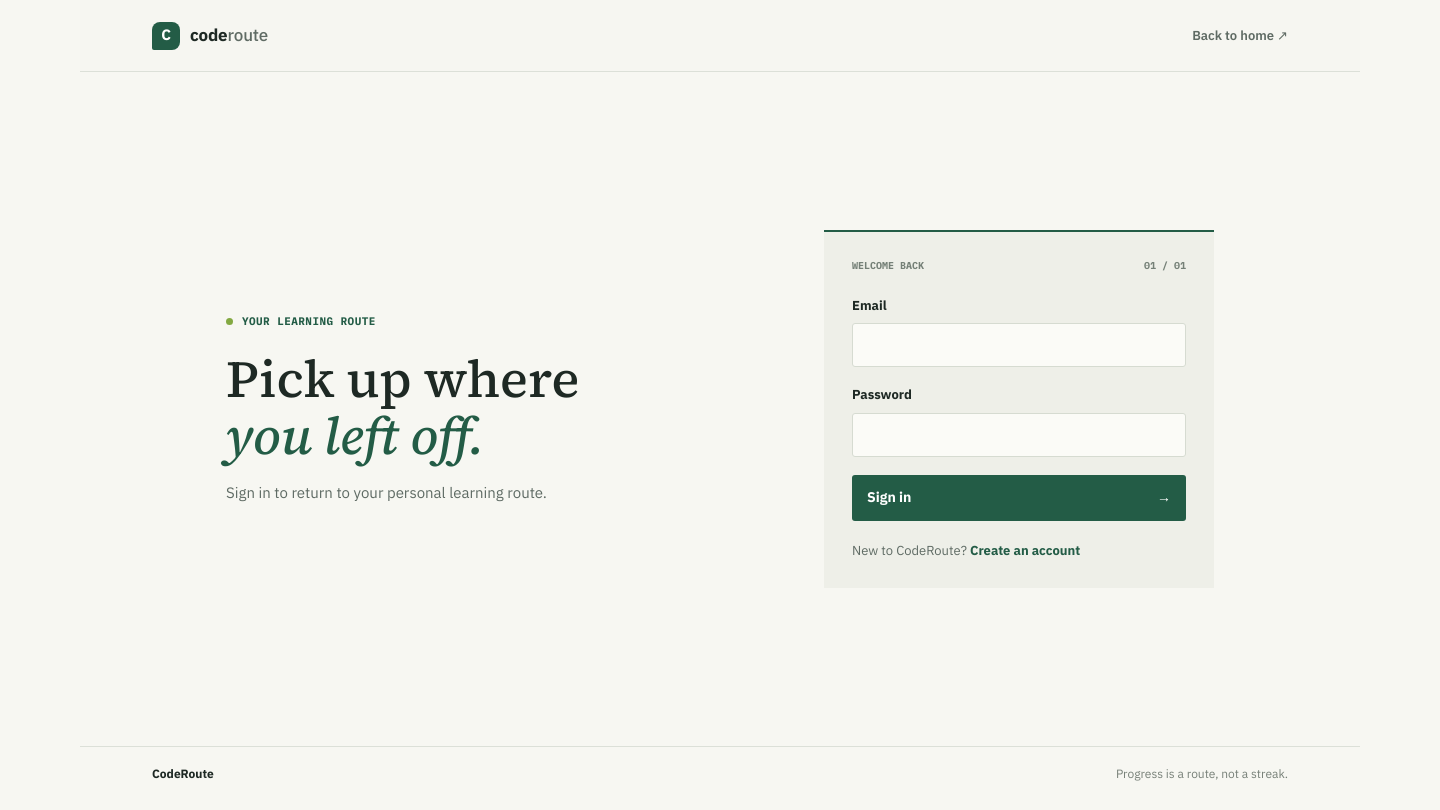
Test: AuthPages Component › handles invalid login and displays error message
Type "wrong@example.com" into the field labelled "Email" at {"x": 1019, "y": 345}, box [852,323,1186,367]
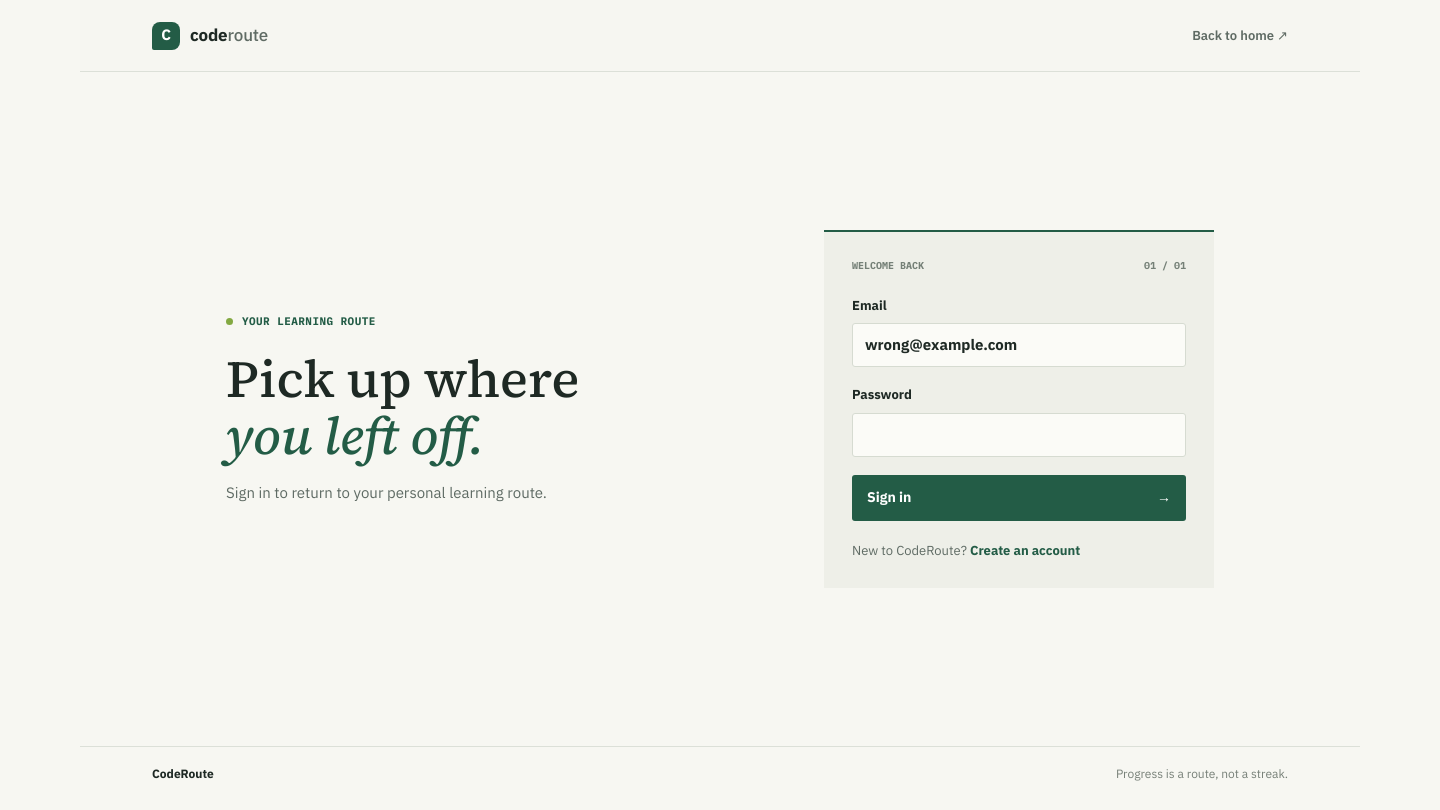
Type "WrongPass123" into the password field labelled "Password" at {"x": 1019, "y": 435}, box [852,413,1186,457]
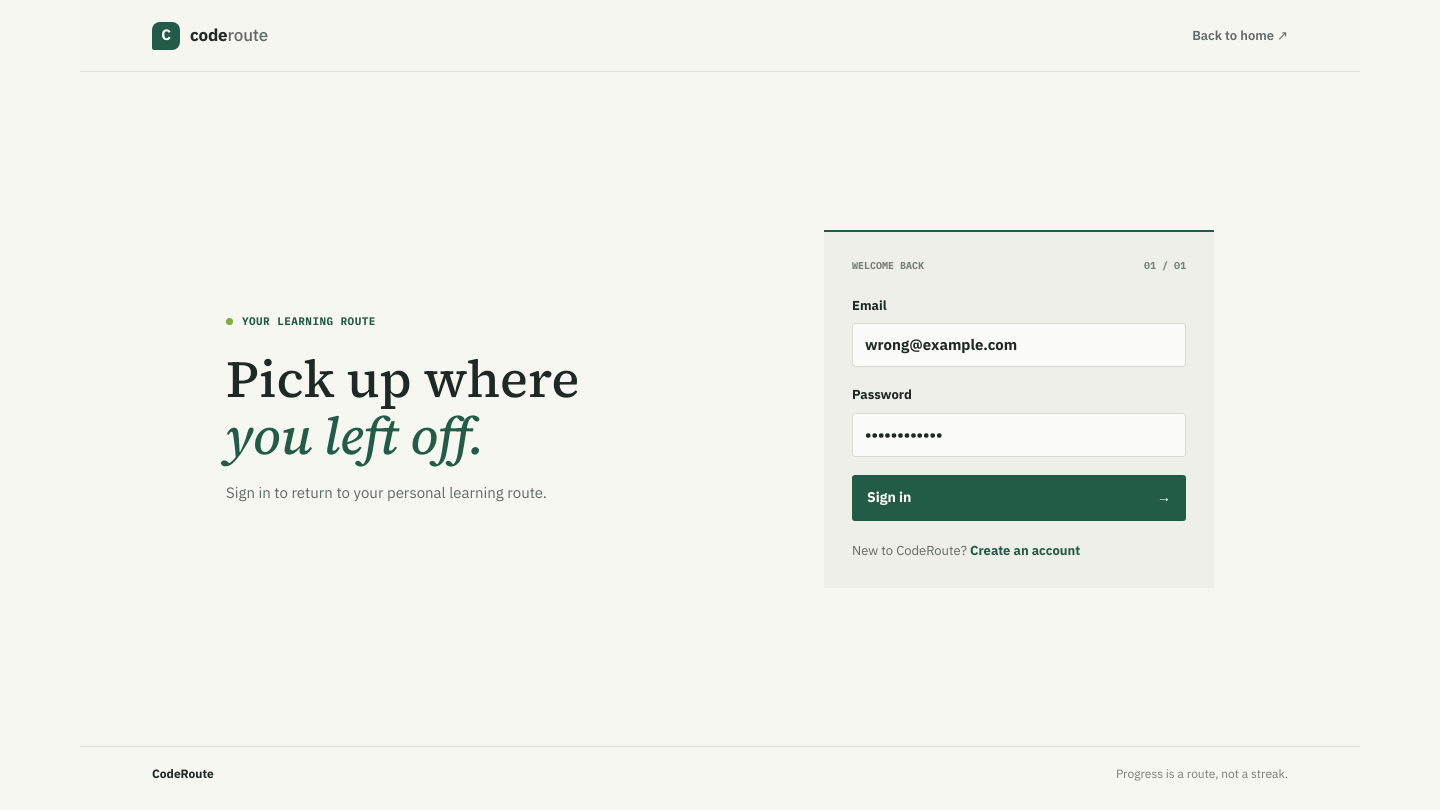
Click the button "Sign in →" at {"x": 889, "y": 497}, box [852,475,1186,521]
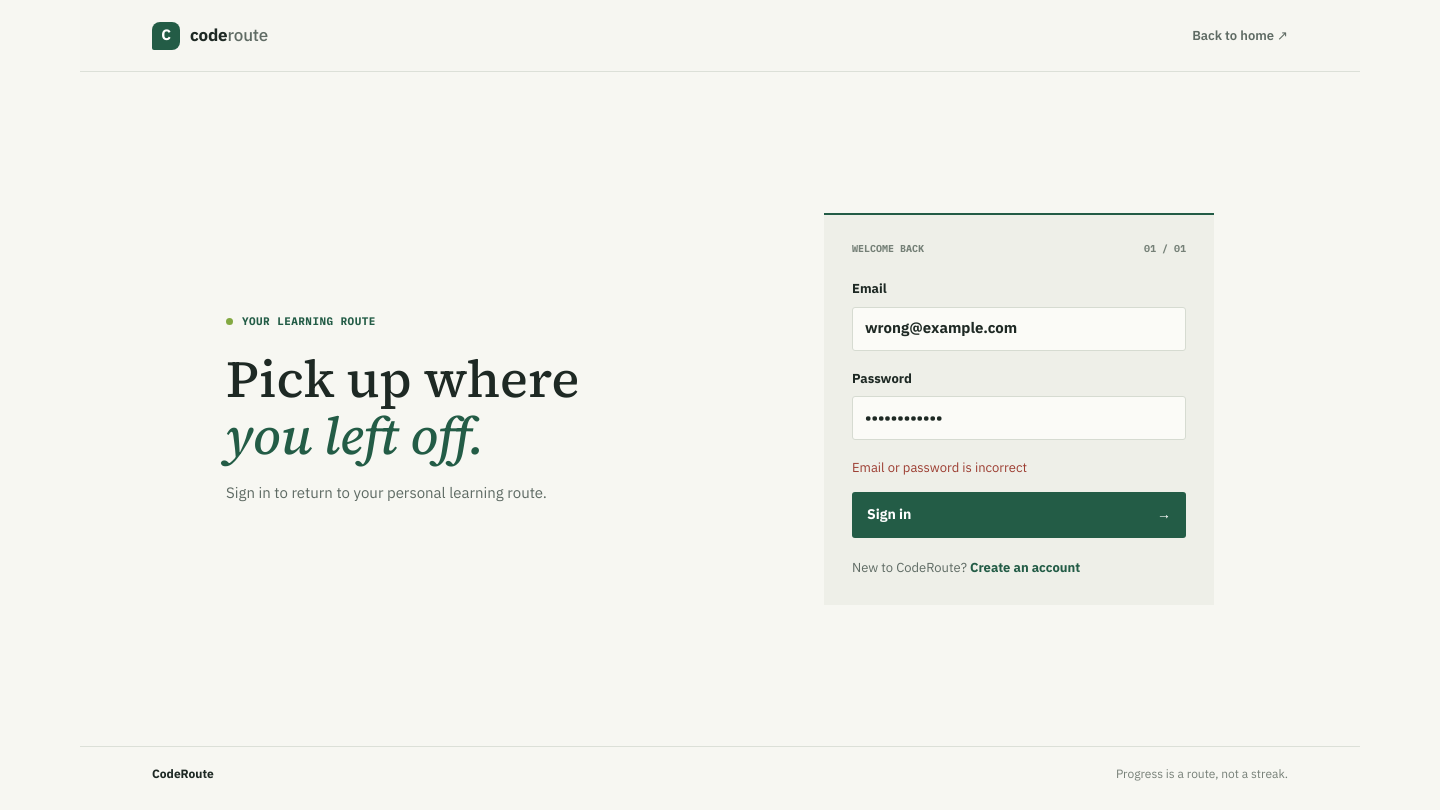
Expected: the message reads "Email or password is incorrect", [852,459,1027,476]
